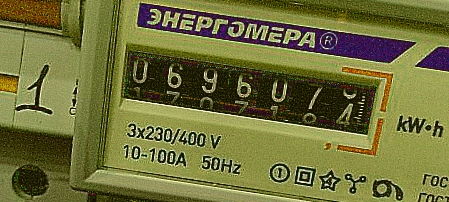0: (127, 53, 152, 86), (268, 73, 291, 105)
4: (332, 98, 355, 130)
6: (232, 68, 256, 102), (163, 58, 186, 90)
7: (302, 78, 324, 111)
9: (197, 64, 221, 95)
screen: (104, 25, 397, 158)
